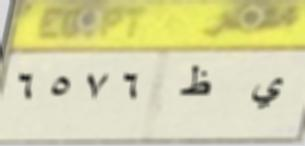5: (50, 75, 73, 104)
6: (15, 67, 38, 104), (121, 69, 142, 106)
7: (81, 70, 112, 104)
Thaa: (178, 60, 214, 103)
yaa: (248, 74, 286, 116)
